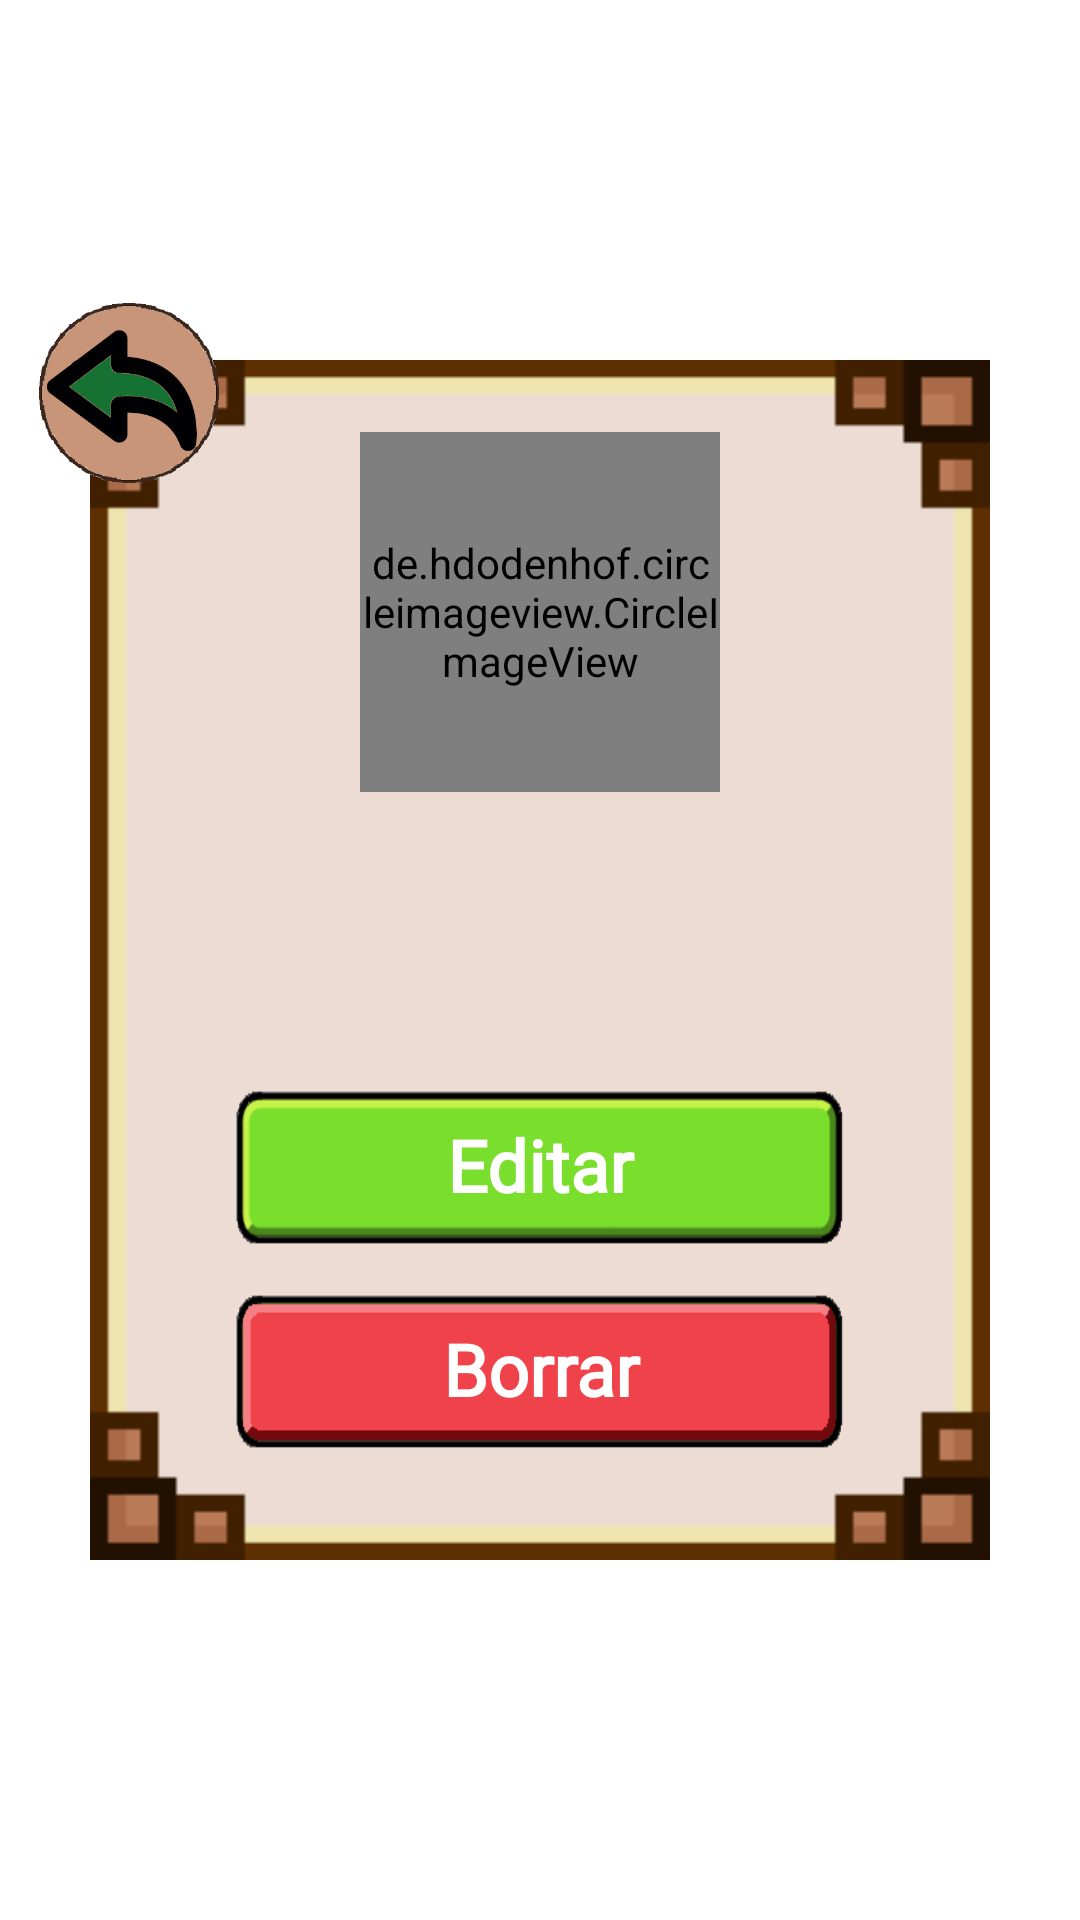

Screen size 1080 x 1920. Icon name, then its box in pixels as (x1, y1, x2, y2):
back: (39, 303, 219, 483)
